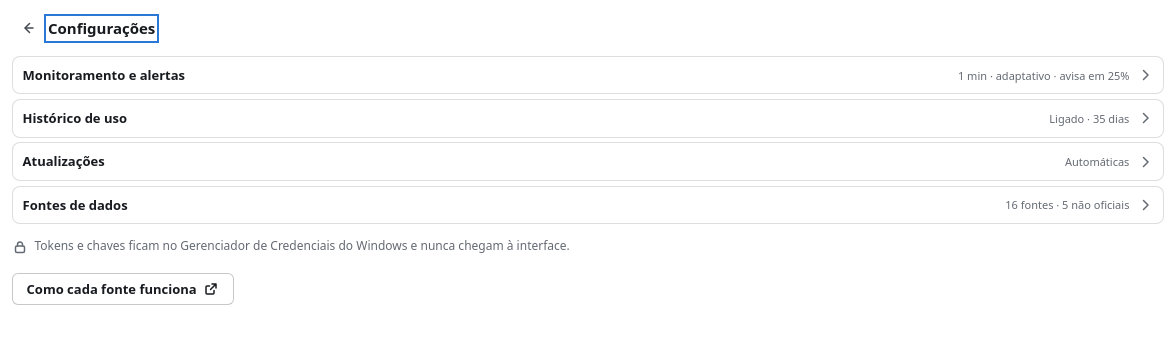
Test: the help button › says so when the page could not be opened
Click the button "Como cada fonte funciona". click: coordinates (123, 289)
box: [12,273,234,305]
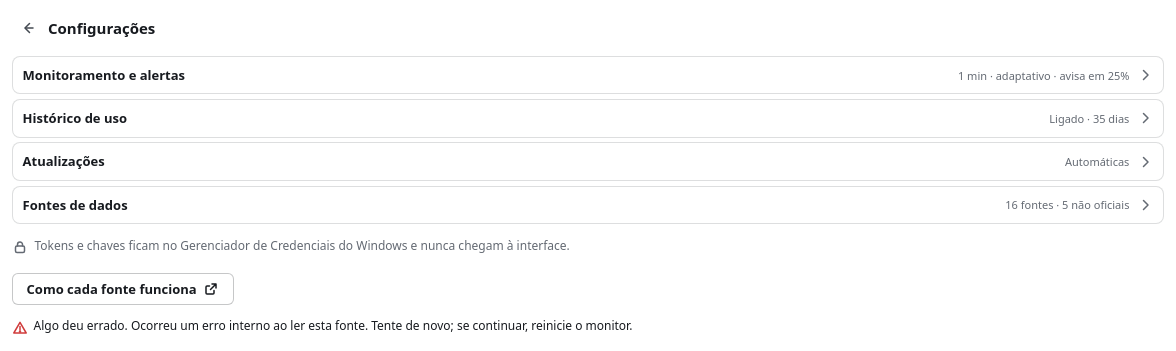
Now the message shows "Algo deu errado", box [34,317,632,334]
